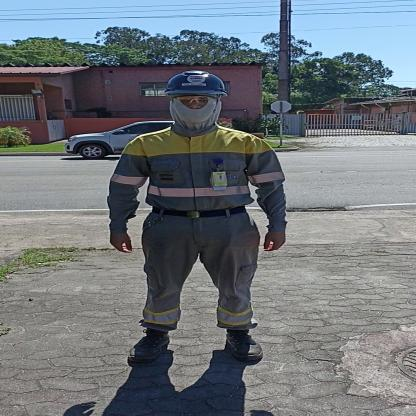Balaclava: (170, 93, 222, 132)
Capacete: (163, 69, 225, 93)
